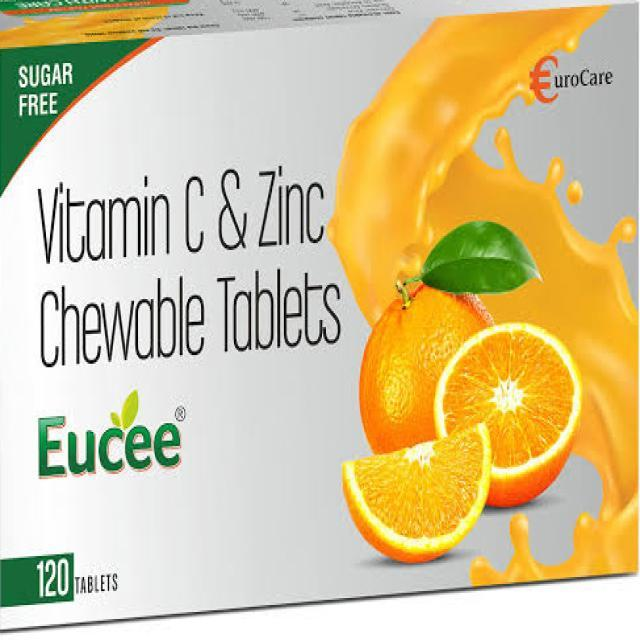drug-name: (38, 390, 188, 484)
